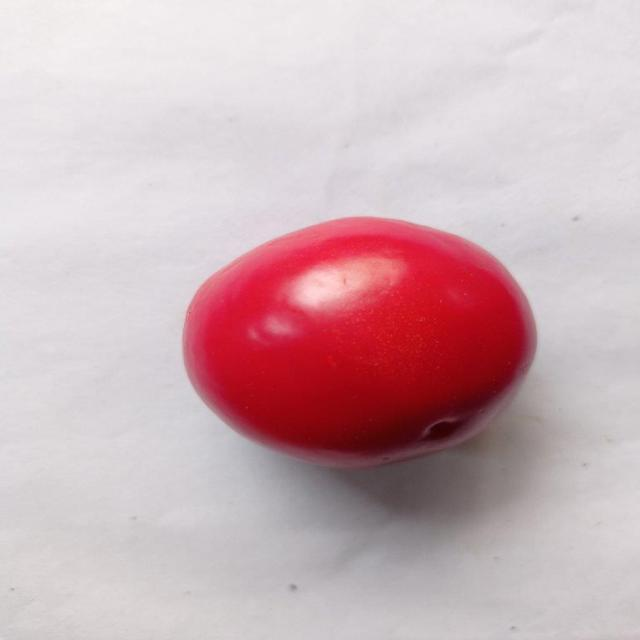Tomato: (178, 212, 544, 471)
